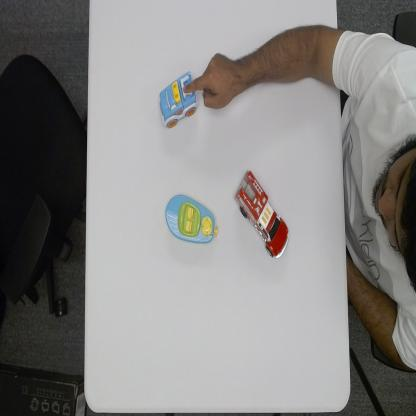Arm: (237, 24, 342, 96)
Boat: (164, 192, 220, 246)
Car: (157, 69, 198, 130)
Firetruck: (234, 167, 291, 260)
Hand: (182, 50, 236, 111)
